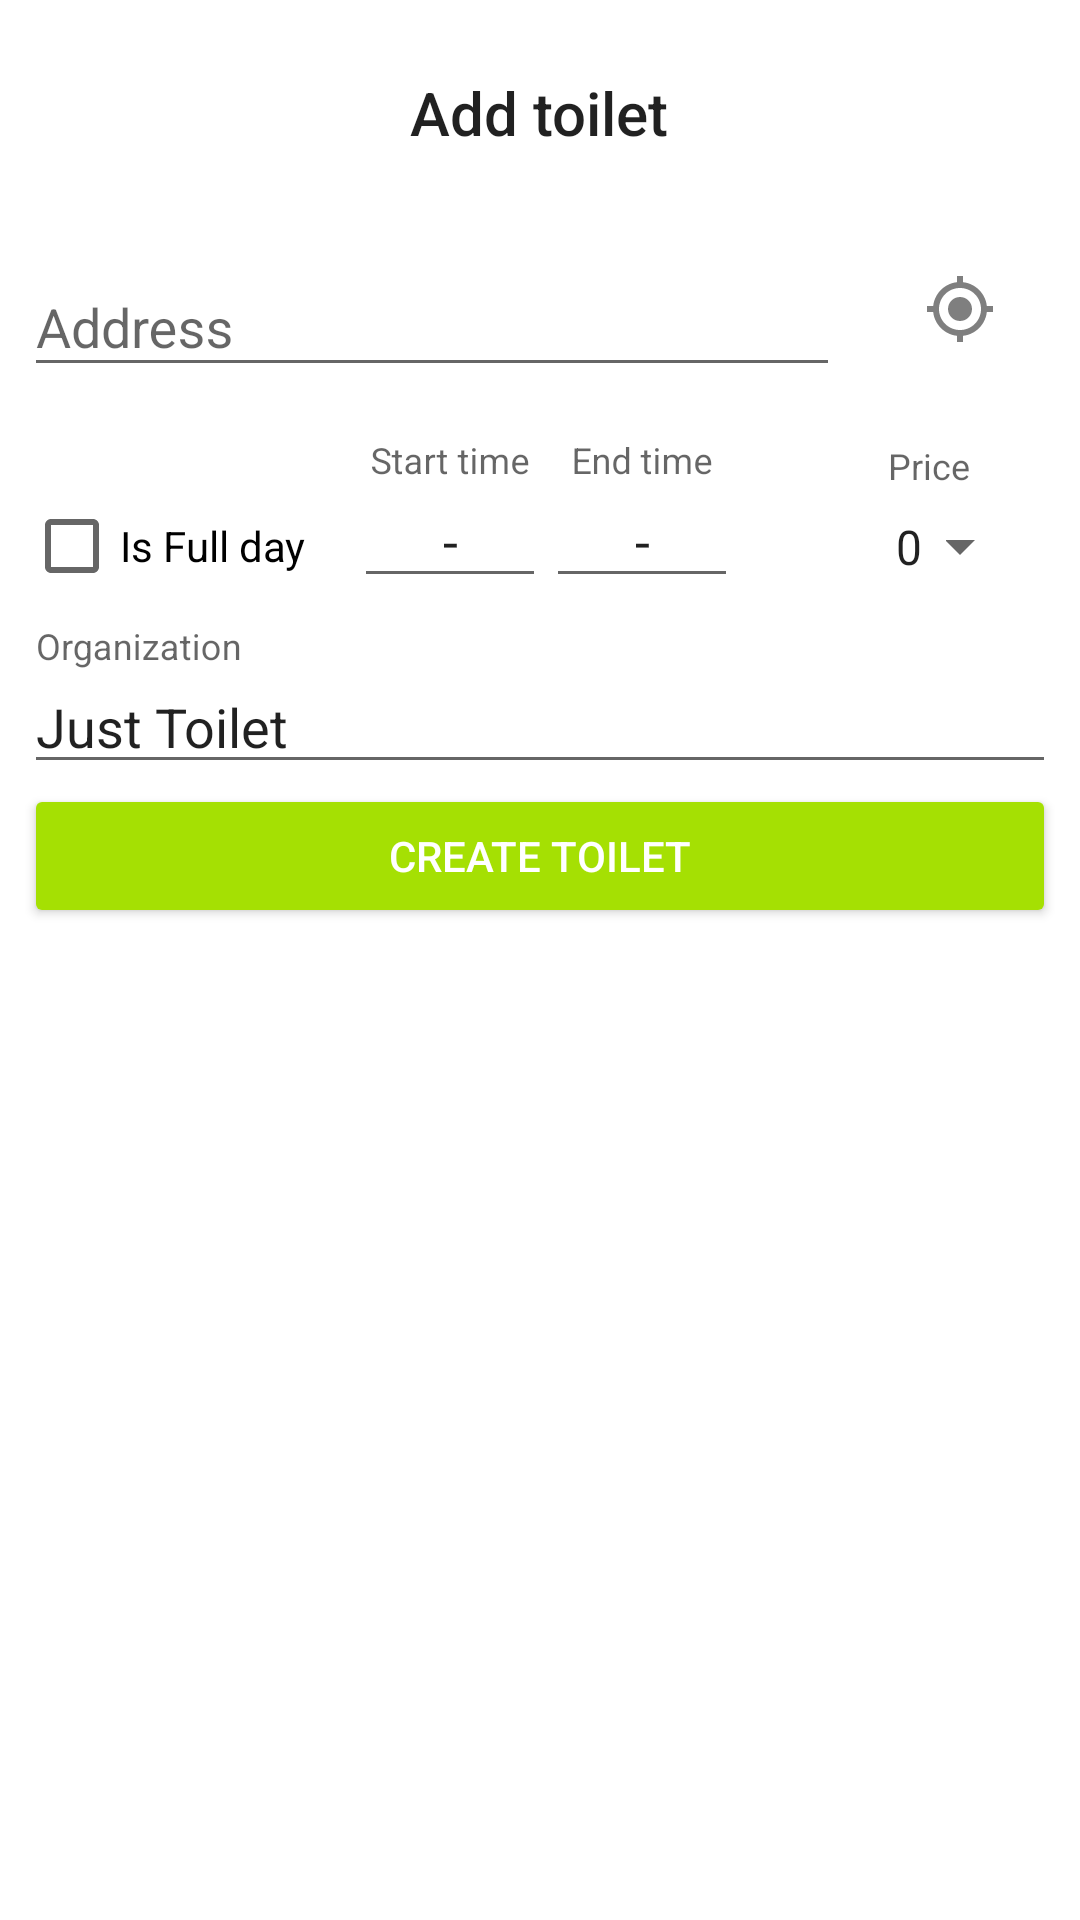

Icons on this 1080px x 1920px Android screen, each with its box as (x1, y1, x2, y2):
Current location button: (927, 276, 993, 342)
